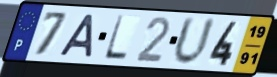2: (132, 16, 171, 64)
4: (207, 20, 239, 67)
7: (35, 11, 70, 58)
A: (57, 13, 97, 59)
L: (102, 13, 130, 62)
U: (171, 15, 218, 68)
